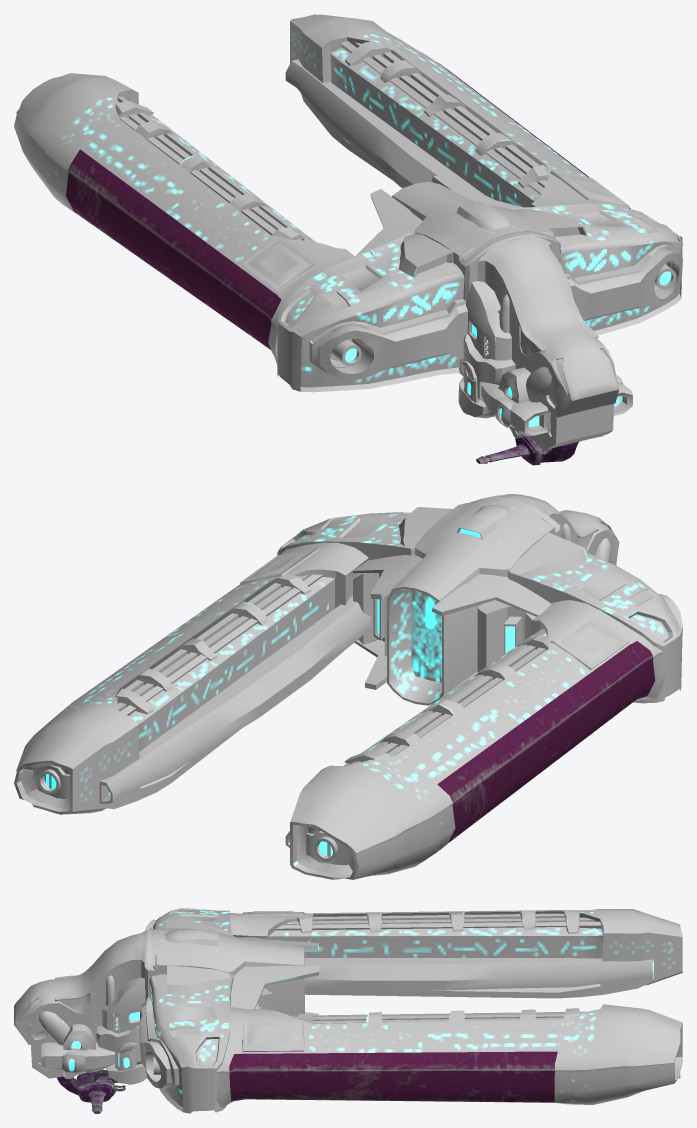
The picture shows the model from 3 angles, top to bottom: view 1: azimuth 30°, elevation 25°; view 2: azimuth 150°, elevation 25°; view 3: azimuth 270°, elevation 25°; orthographic projection. The views are drawn at different scales.
Parts seen in each view (by area): view 1: Cube, Turret_cannon; view 2: Cube; view 3: Cube, Turret_cannon.
Part boxes in pixels (bbox=[...]): Cube: bbox=[14, 14, 682, 450]; Turret_cannon: bbox=[476, 431, 611, 465]; Cube: bbox=[14, 494, 682, 879]; Cube: bbox=[14, 908, 682, 1113]; Turret_cannon: bbox=[57, 1069, 116, 1113].
Bounding box in the file's own units: 637 × 317 × 1173.
